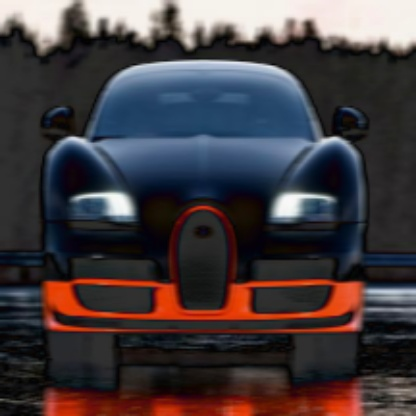Vehicle: (44, 61, 365, 357)
